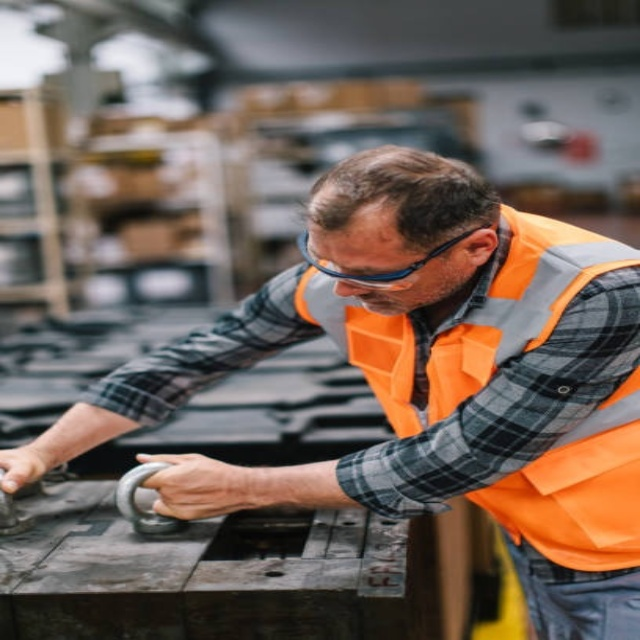Gafas: (301, 222, 489, 290)
Sin_guantes: (129, 450, 267, 524), (3, 439, 53, 497)
Sin_mascara: (334, 290, 411, 315)
